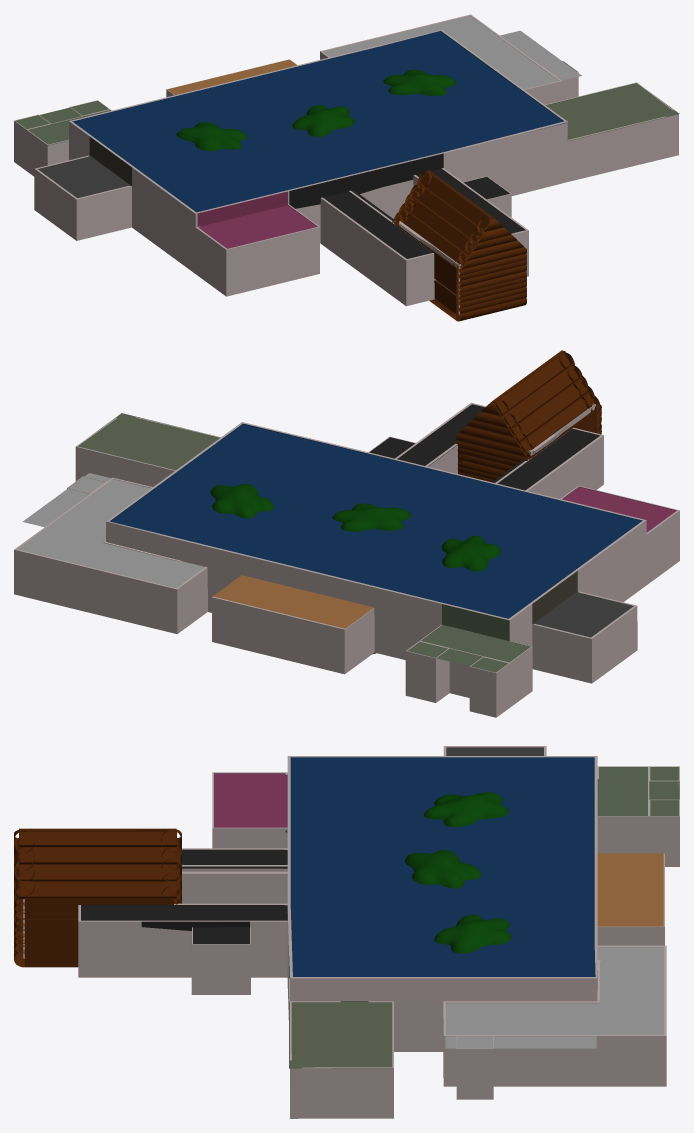
The model's file is sista map om allt går bra.fbx.
3 views of the same model, one above another, from view 1: azimuth 30°, elevation 25°; view 2: azimuth 150°, elevation 25°; view 3: azimuth 270°, elevation 25° (orthographic). The views are drawn at different scales.
Parts seen in each view (by area): view 1: ROOF, Plane, Cylinder, Mball.002, Mball.003, Mball.001; view 2: ROOF, Plane, Cylinder, Mball.001, Mball.002, Mball.003; view 3: ROOF, Plane, Cylinder, Mball.003, Mball.001, Mball.002.
Part boxes in pixels (x1,y1,x2,y2): ROOF: [16, 16, 679, 258]; Plane: [14, 14, 678, 315]; Cylinder: [392, 170, 526, 321]; Mball.002: [383, 69, 456, 96]; Mball.003: [176, 122, 247, 151]; Mball.001: [292, 104, 354, 137]; ROOF: [17, 404, 676, 672]; Plane: [14, 402, 679, 717]; Cylinder: [456, 350, 601, 482]; Mball.001: [332, 503, 411, 531]; Mball.002: [210, 484, 273, 518]; Mball.003: [441, 535, 500, 571]; ROOF: [81, 747, 678, 1068]; Plane: [23, 746, 679, 1118]; Cylinder: [14, 828, 181, 967]; Mball.003: [423, 792, 509, 827]; Mball.001: [404, 850, 482, 888]; Mball.002: [434, 914, 512, 953].
Size of the model in its own units: 8592 by 1470 by 7499.
